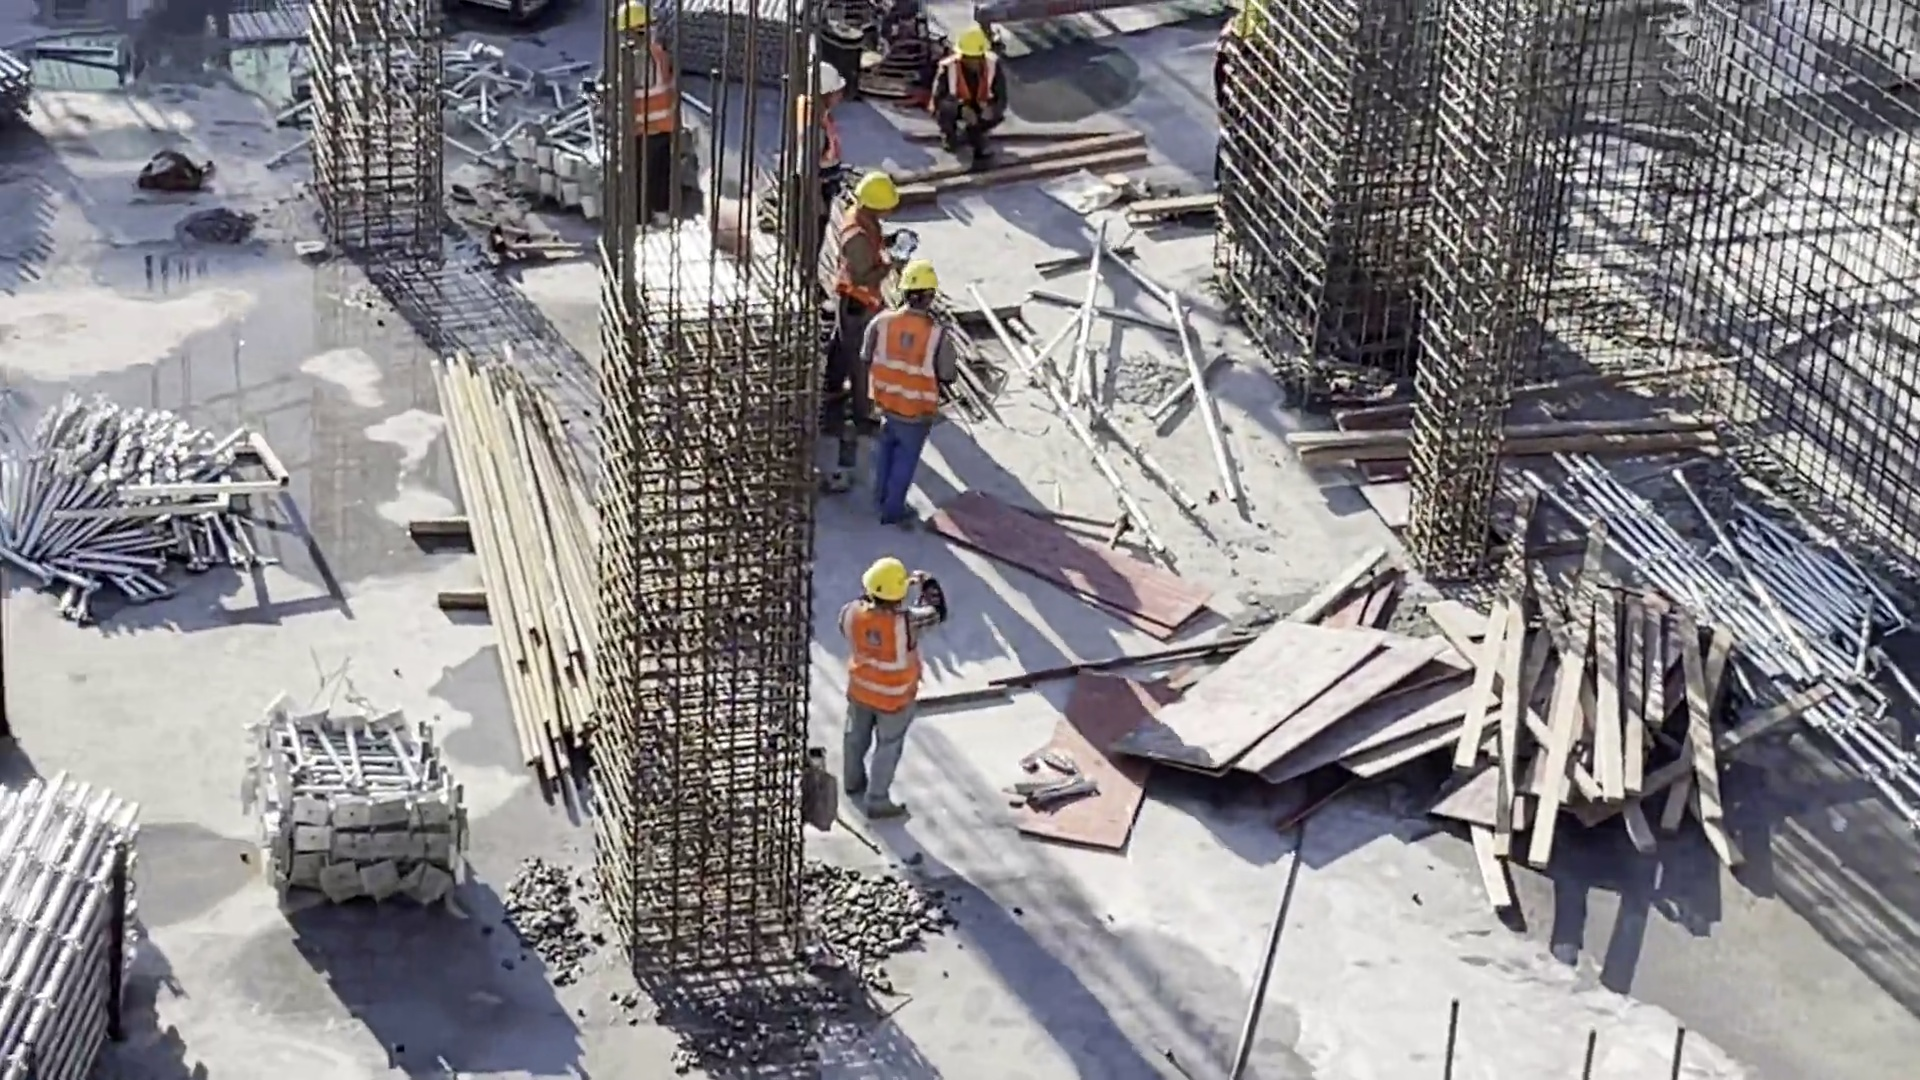board: (1134, 621, 1457, 804)
helmet: (852, 164, 912, 219), (856, 556, 921, 597), (797, 54, 855, 90), (911, 257, 949, 300), (615, 1, 663, 34), (963, 26, 1003, 61)
person: (833, 557, 949, 812), (814, 171, 903, 439), (593, 4, 693, 211), (871, 272, 947, 527), (780, 54, 841, 278), (933, 28, 1026, 157)
scaffold: (1, 385, 314, 592), (1605, 468, 1875, 694), (1, 762, 161, 1077), (245, 693, 444, 909), (497, 87, 685, 202)
vest: (837, 594, 929, 723), (867, 309, 941, 423), (823, 211, 884, 309), (628, 45, 681, 134), (938, 49, 997, 112), (792, 94, 837, 160)
wood: (1478, 546, 1726, 894)
